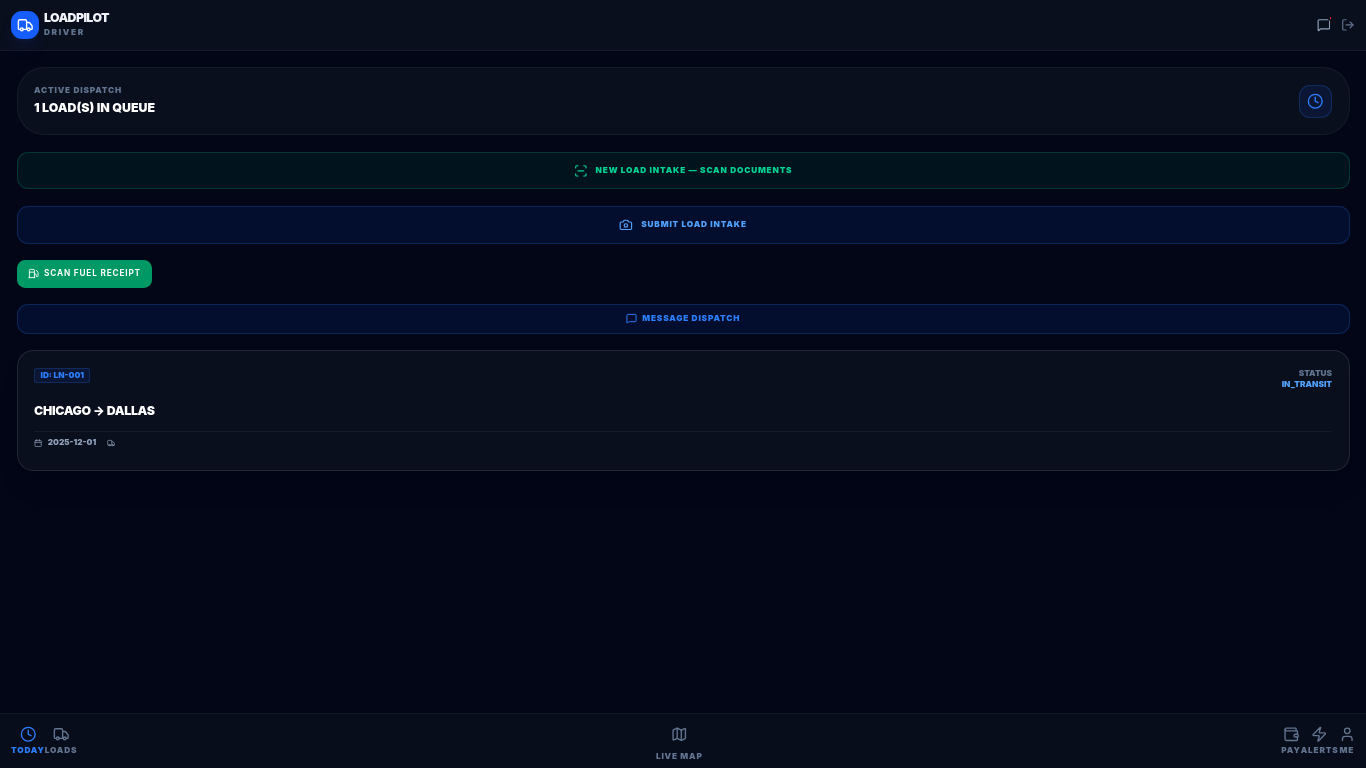
Test: DriverMobileHome: specialInstructions rendering (R-P3-10) › renders selectedLoad.specialInstructions when present
Find and click the load card to navigate to detail view
What coordinates should you click on to do the following:
click the text "ID: LN-001 Status in_transit"
I would click on:
 (62, 375)
Its box is top-left (34, 368), bottom-right (1332, 390).
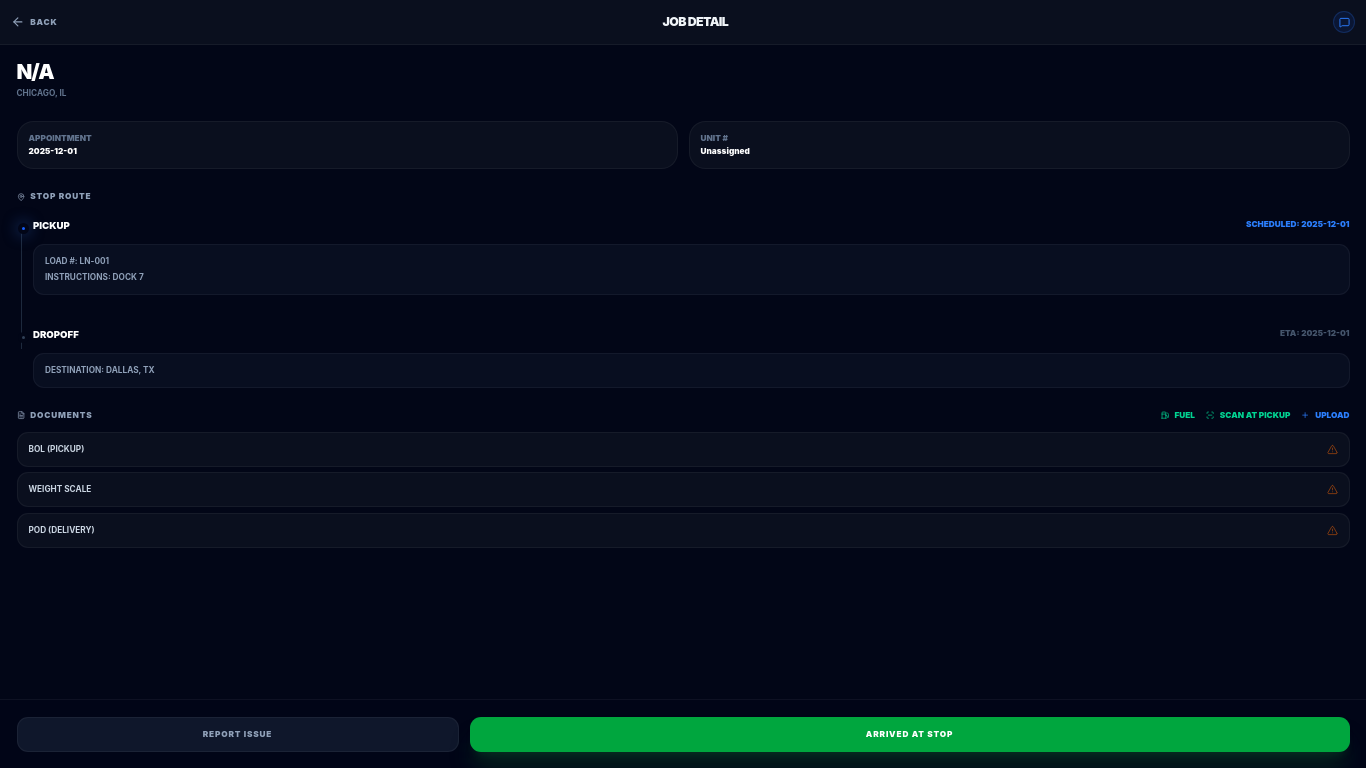
Now the text "Dock 7" is shown, box top-left (113, 272), bottom-right (144, 282)
